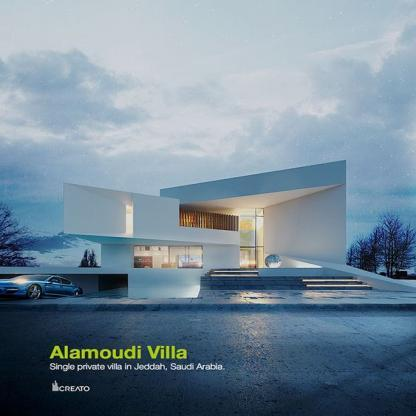Building Outline: (0, 159, 416, 298)
Door: (240, 248, 255, 268)
Facade: (63, 159, 346, 290)
Glass Wall: (240, 208, 264, 268)
Window: (135, 246, 203, 268), (127, 206, 132, 233)
